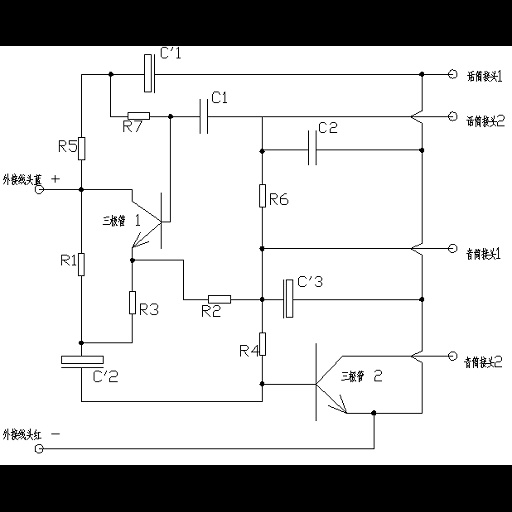capacitor: (301, 127, 320, 170), (193, 97, 212, 137)
firstresistance: (256, 330, 271, 362), (76, 249, 91, 280), (76, 132, 90, 164), (254, 182, 268, 210), (125, 287, 138, 317), (205, 292, 233, 305), (124, 109, 152, 121)
npn: (306, 338, 348, 430), (126, 186, 173, 253)
